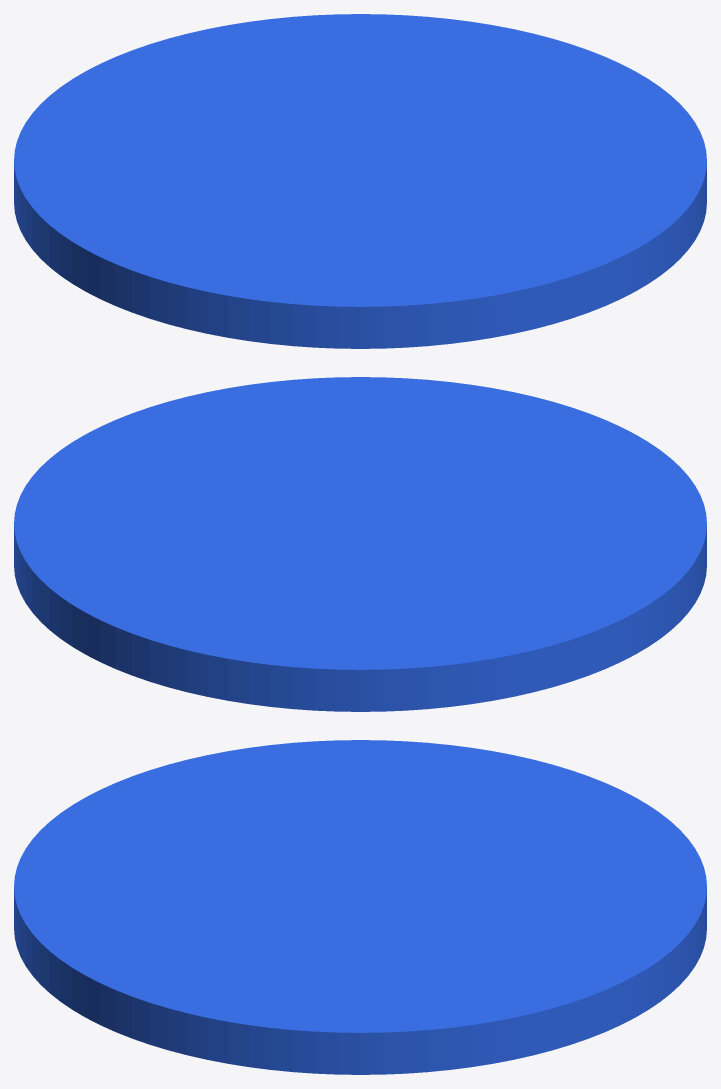
Rendered from si-keilat-1-5-uniryyn-Alusta5.fbx.
3 renders of one model, top to bottom at view 1: azimuth 30°, elevation 25°; view 2: azimuth 150°, elevation 25°; view 3: azimuth 270°, elevation 25°, orthographic.
Visible parts, largest first — view 1: Cylinder.019; view 2: Cylinder.019; view 3: Cylinder.019.
Boxes of the visible parts, x1,y1,x2,y2 form: Cylinder.019: (14, 14, 706, 348); Cylinder.019: (14, 377, 706, 711); Cylinder.019: (14, 740, 706, 1074).
Bounding box in the file's own units: 403 × 27 × 403.
